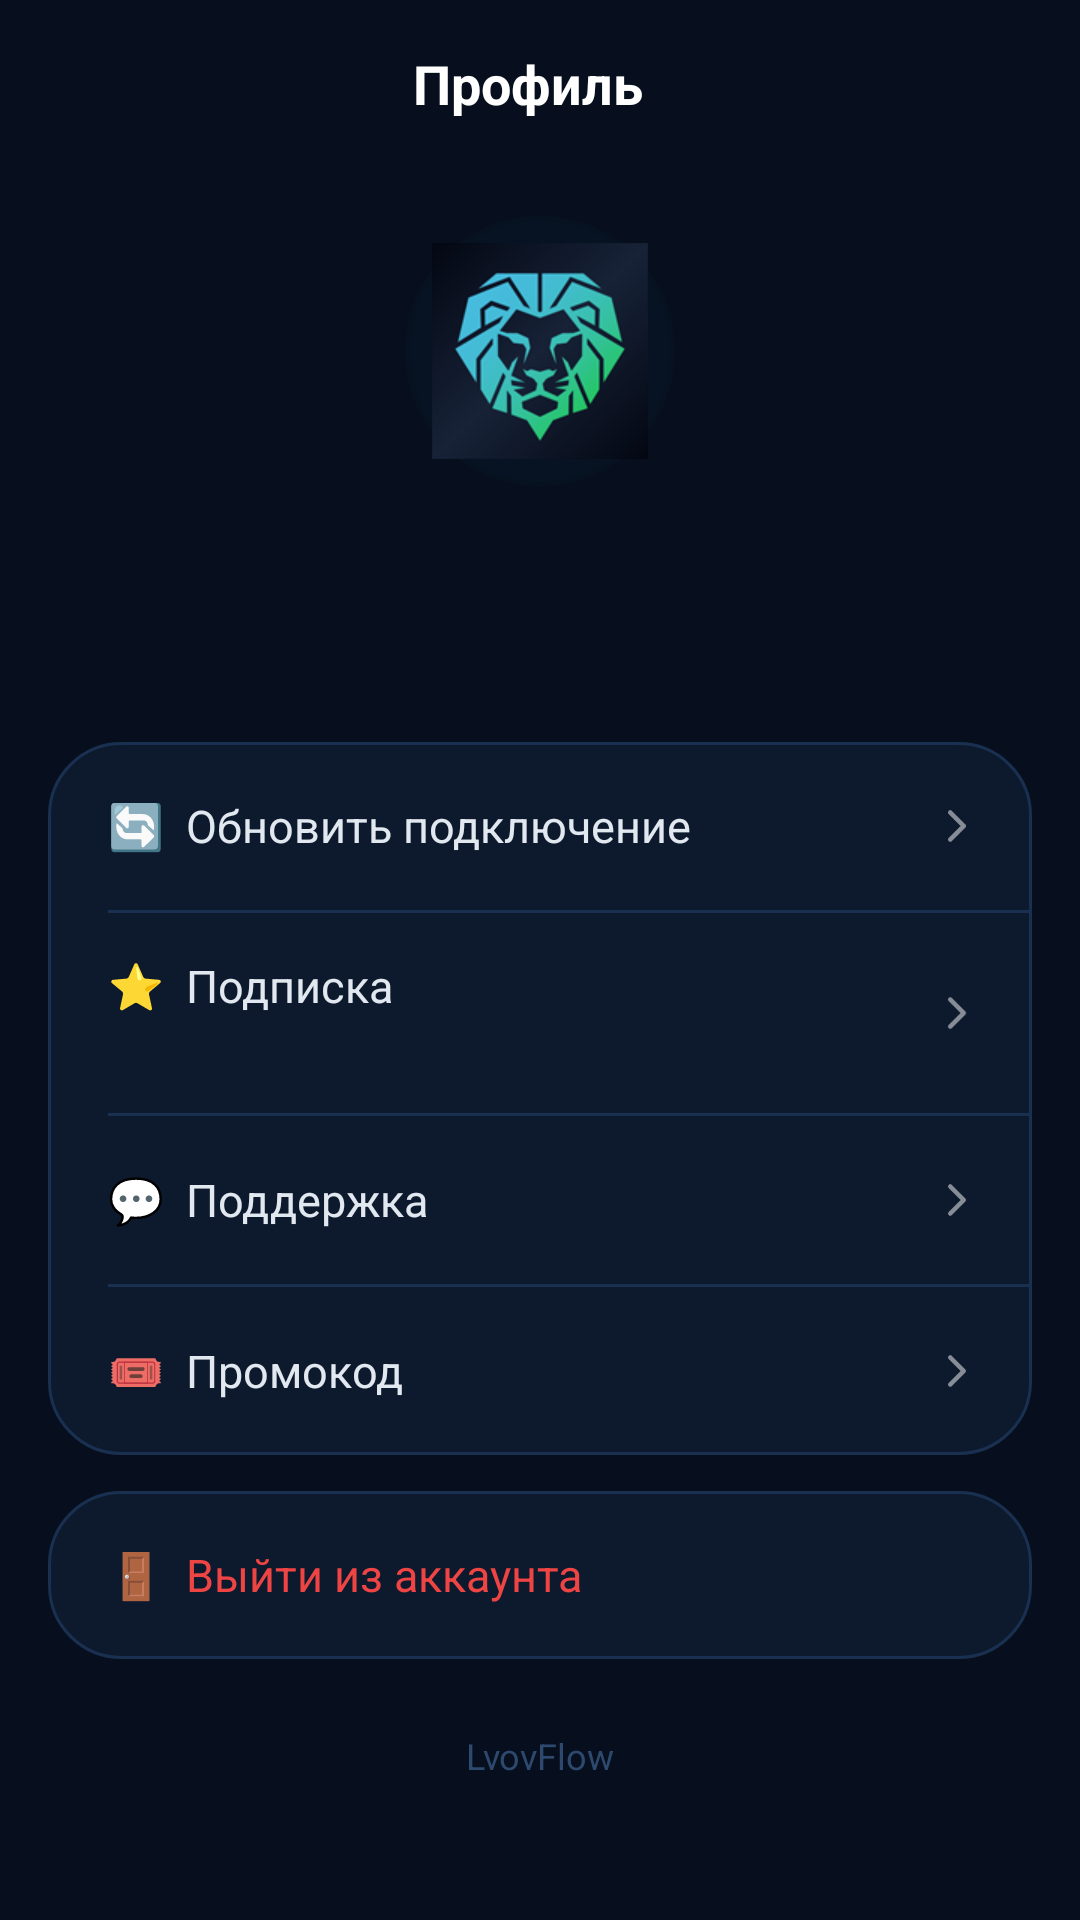

Named icons in this screenshot (1080x1920) and their bounding boxes, BBox(x1, y1, x2, y2):
chevron right: BBox(948, 810, 966, 842), BBox(948, 997, 966, 1029), BBox(948, 1184, 966, 1216), BBox(948, 1355, 966, 1387)
